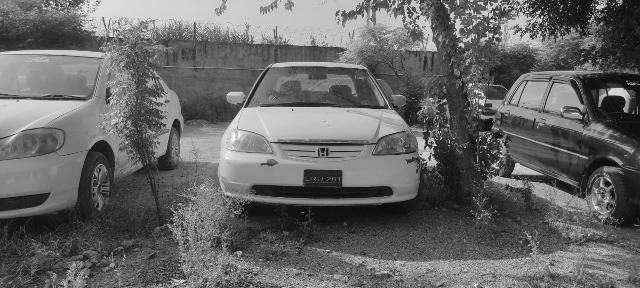Number: (305, 175, 341, 183)
